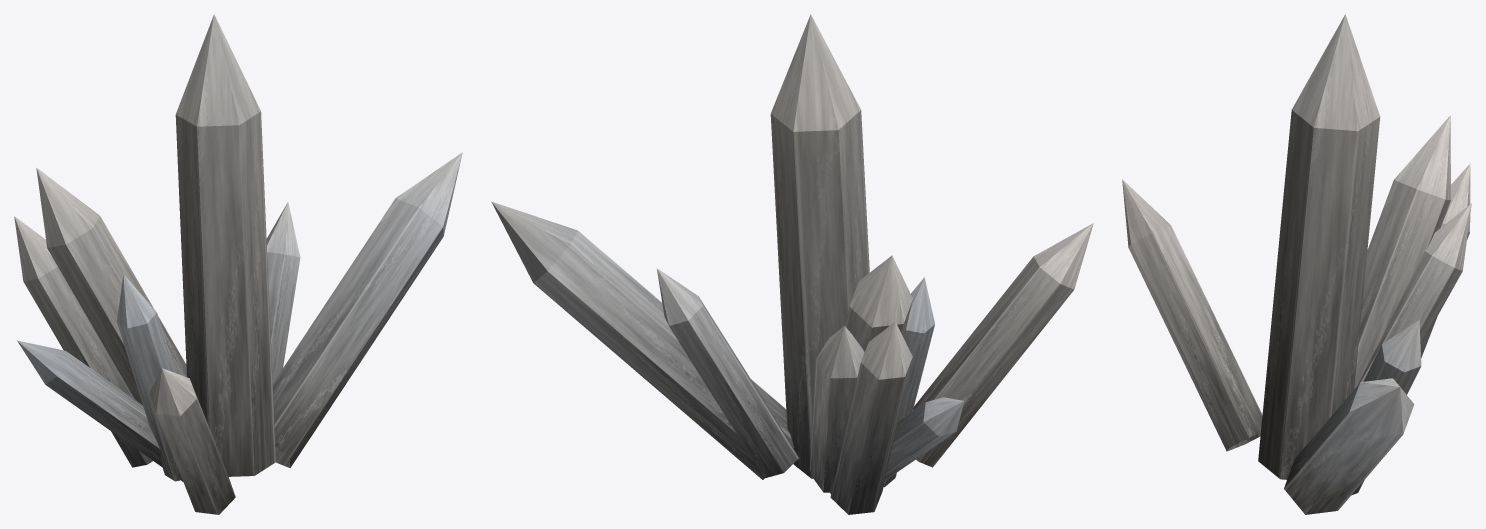
Rendered from crystal_big_l0.gltf.
3 views of the same model, side by side, from view 1: azimuth 30°, elevation 25°; view 2: azimuth 150°, elevation 25°; view 3: azimuth 270°, elevation 25° (orthographic). The views are drawn at different scales.
Visible parts, largest first — view 1: crystal_big_l0; view 2: crystal_big_l0; view 3: crystal_big_l0.
Part boxes in pixels (x1,y1,x2,y2): crystal_big_l0: (14,14,462,514); crystal_big_l0: (491,14,1093,514); crystal_big_l0: (1122,14,1471,514).
Size of the model in its own units: 4.82 by 4.69 by 3.15.
1 material, 1 textured.
